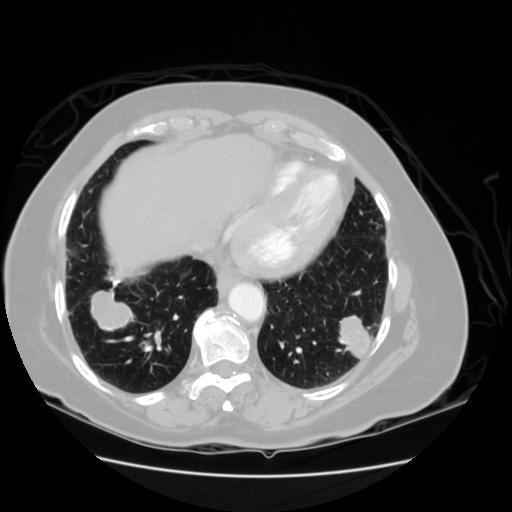nodule: (88, 291, 131, 334)
